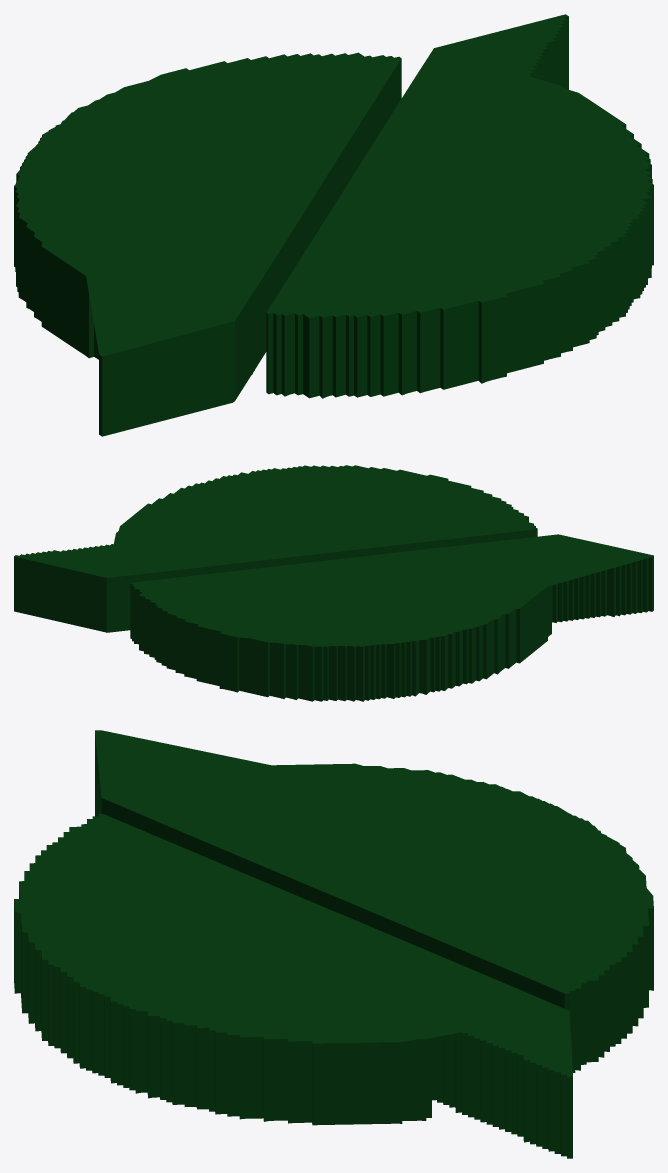
The model's file is olenbetong.obj.
3 renders of one model, top to bottom at view 1: azimuth 30°, elevation 25°; view 2: azimuth 150°, elevation 25°; view 3: azimuth 270°, elevation 25°, orthographic. The views are drawn at different scales.
Visible parts, largest first — view 1: Plane; view 2: Plane; view 3: Plane.
Boxes of the visible parts, left/top/right/bottom form: Plane: left=14, top=14, right=653, bottom=436; Plane: left=14, top=465, right=653, bottom=701; Plane: left=14, top=730, right=653, bottom=1158.
Bounding box in the file's own units: 14.13 × 1.57 × 11.01.
